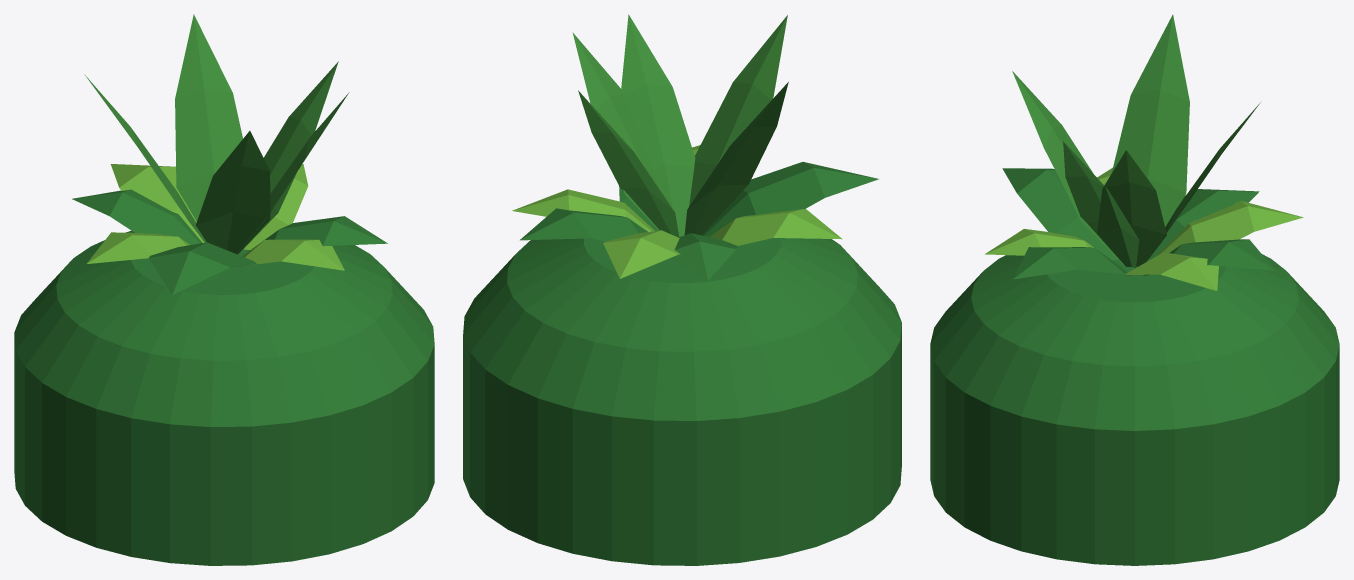
The model's file is shrub_leafy.glb.
The picture shows the model from 3 angles, left to right: view 1: azimuth 30°, elevation 25°; view 2: azimuth 150°, elevation 25°; view 3: azimuth 270°, elevation 25°; orthographic projection. The views are drawn at different scales.
Parts seen in each view (by area): view 1: body; view 2: body; view 3: body.
Boxes of the visible parts, x1=… form: body: x1=14, y1=14, x2=434, y2=565; body: x1=463, y1=14, x2=901, y2=565; body: x1=930, y1=14, x2=1339, y2=565.
Size of the model in its own units: 1.1 by 1.21 by 1.1.
